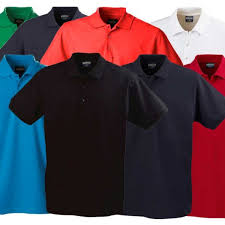S_polo shirt: (14, 53, 163, 214)
